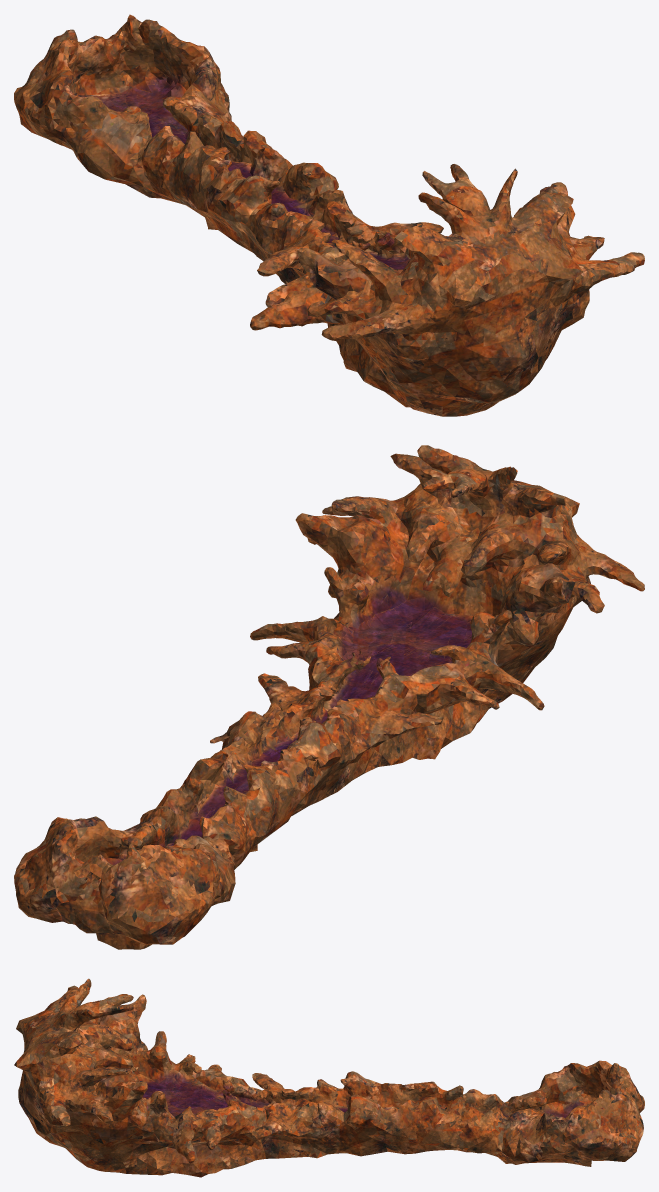
Rendered from astral_plane_surface.fbx.
3 views of the same model, one above another, from view 1: azimuth 30°, elevation 25°; view 2: azimuth 150°, elevation 25°; view 3: azimuth 270°, elevation 25° (orthographic). The views are drawn at different scales.
Parts seen in each view (by area): view 1: Cube; view 2: Cube; view 3: Cube.
Part boxes in pixels (x1,y1,x2,y2): Cube: (14, 14, 644, 416); Cube: (14, 445, 644, 949); Cube: (14, 978, 644, 1177).
Bounding box in the file's own units: 1309 × 936 × 3110.
